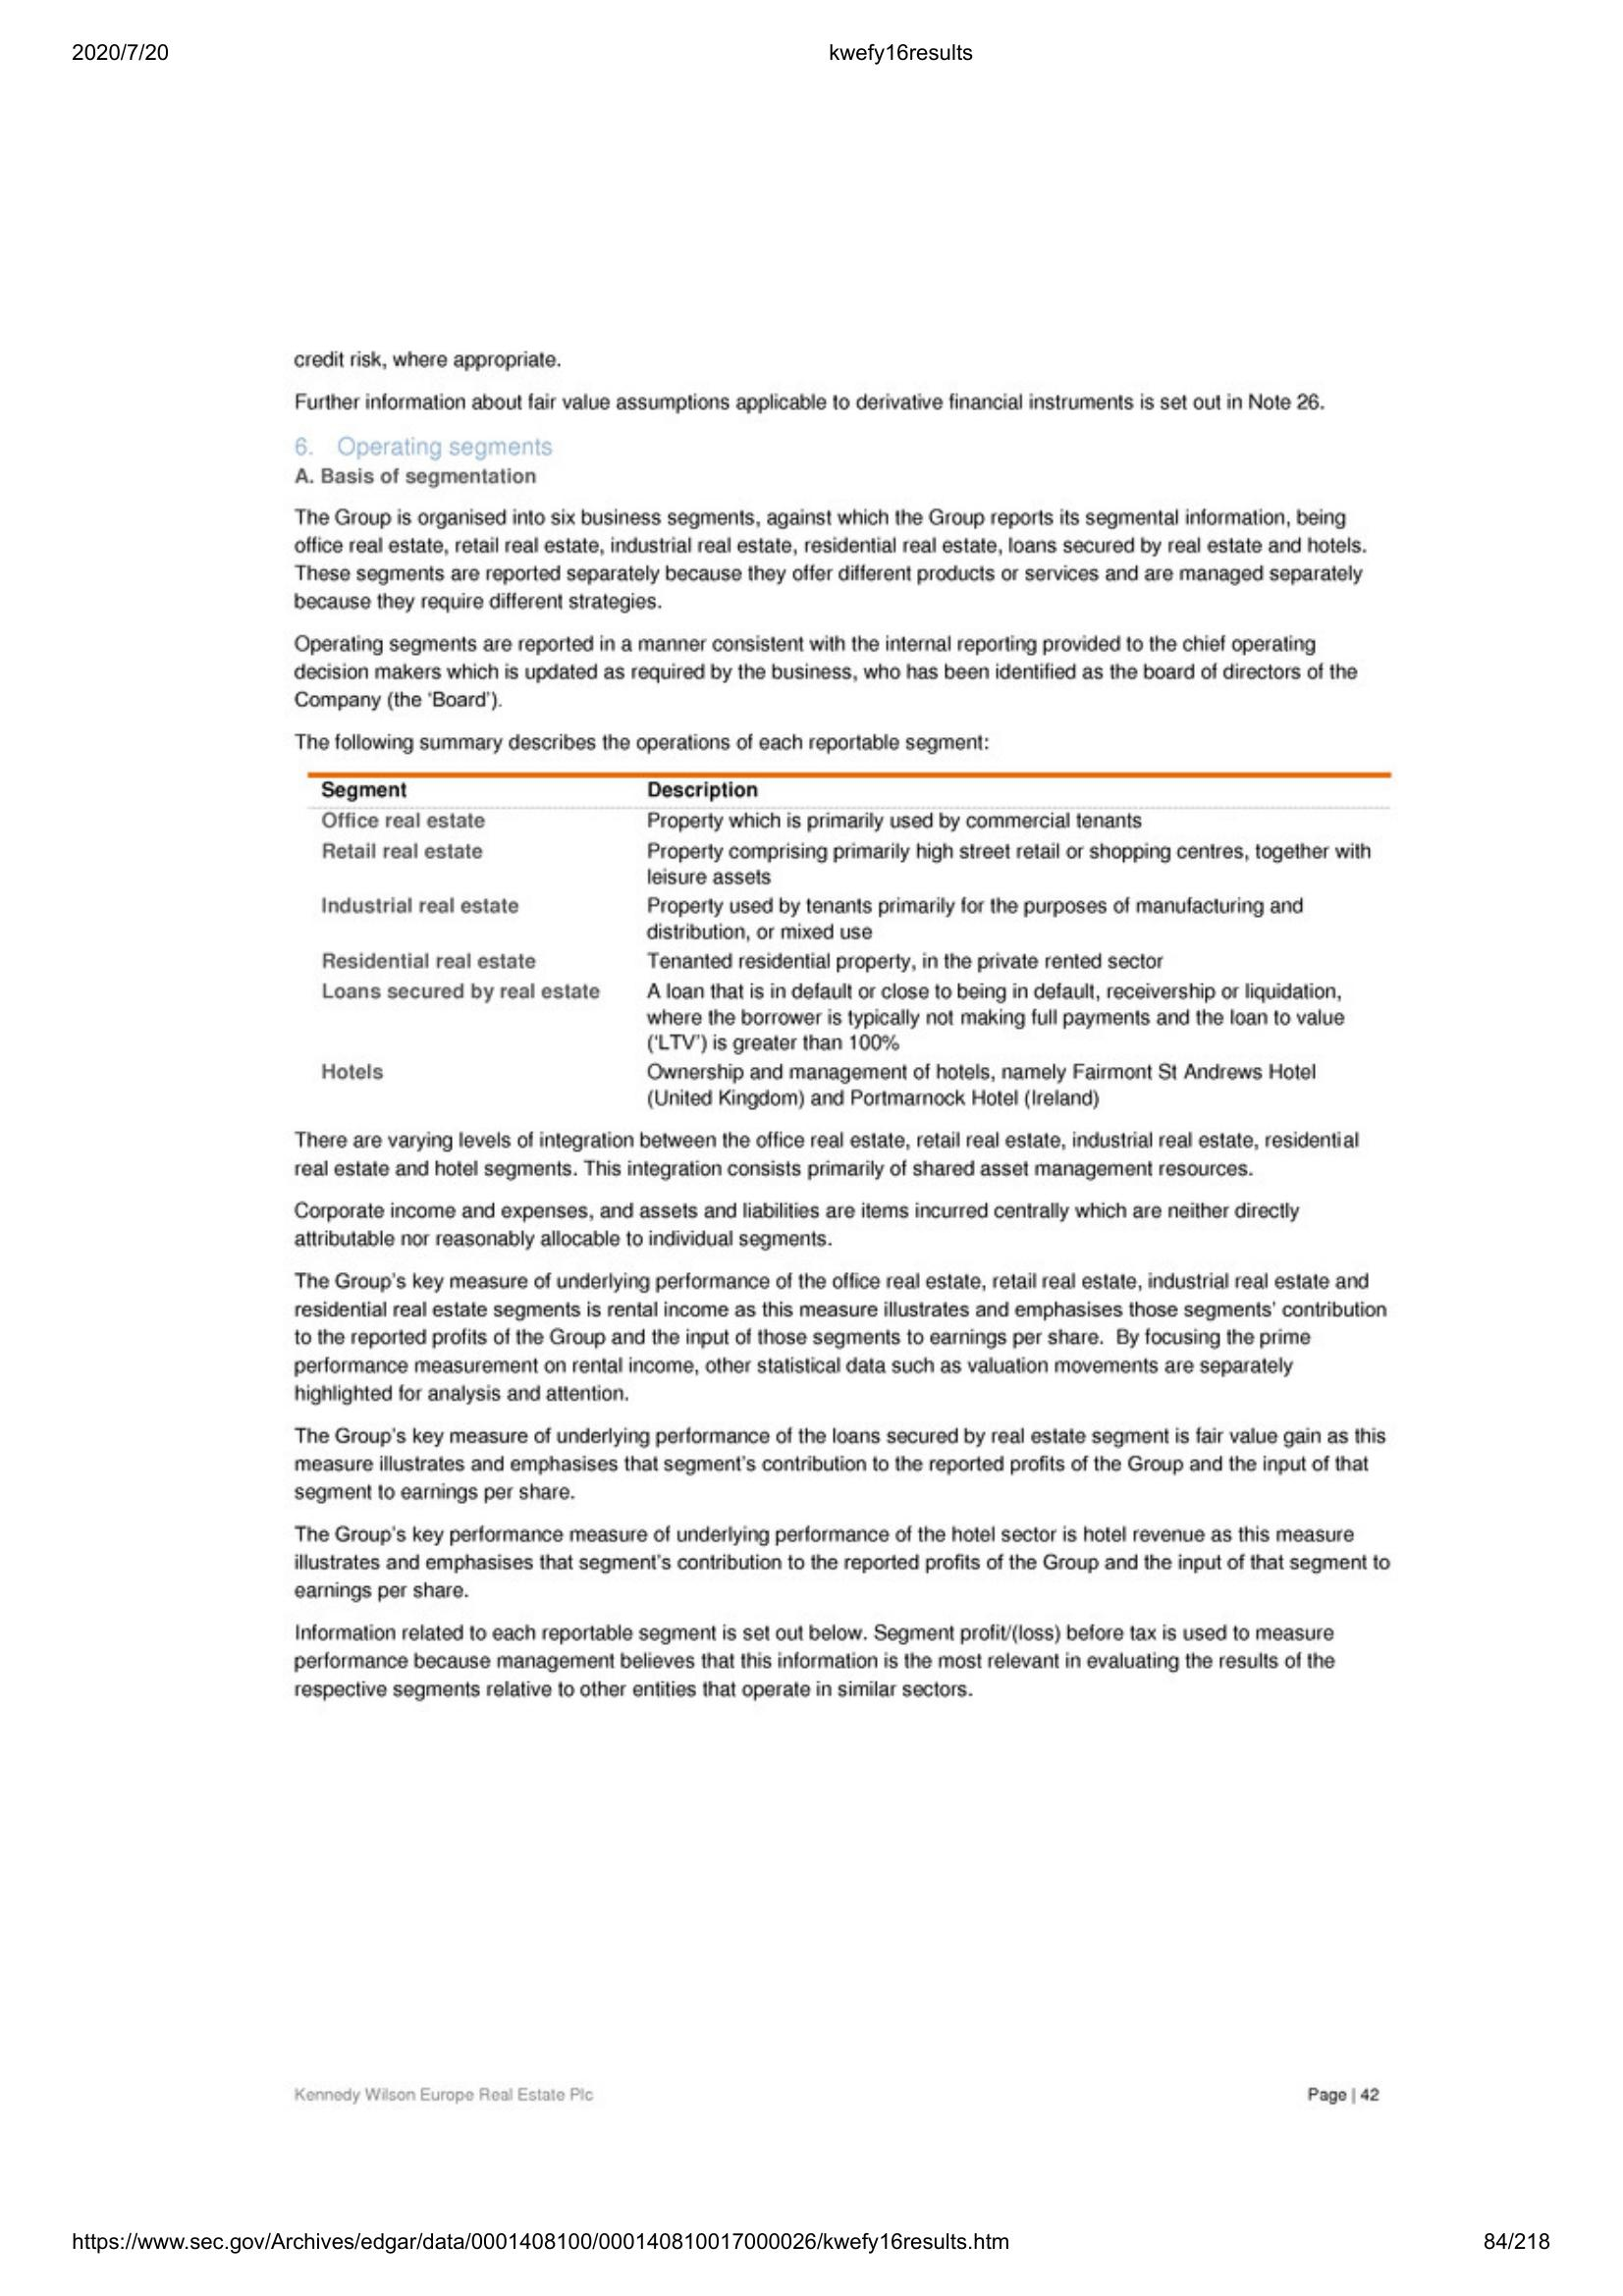table: (302, 767, 1395, 1108)
